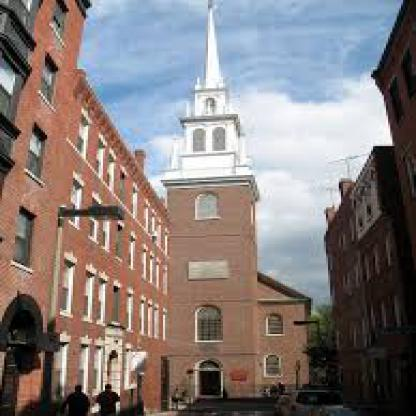North Church: (152, 0, 346, 415)
